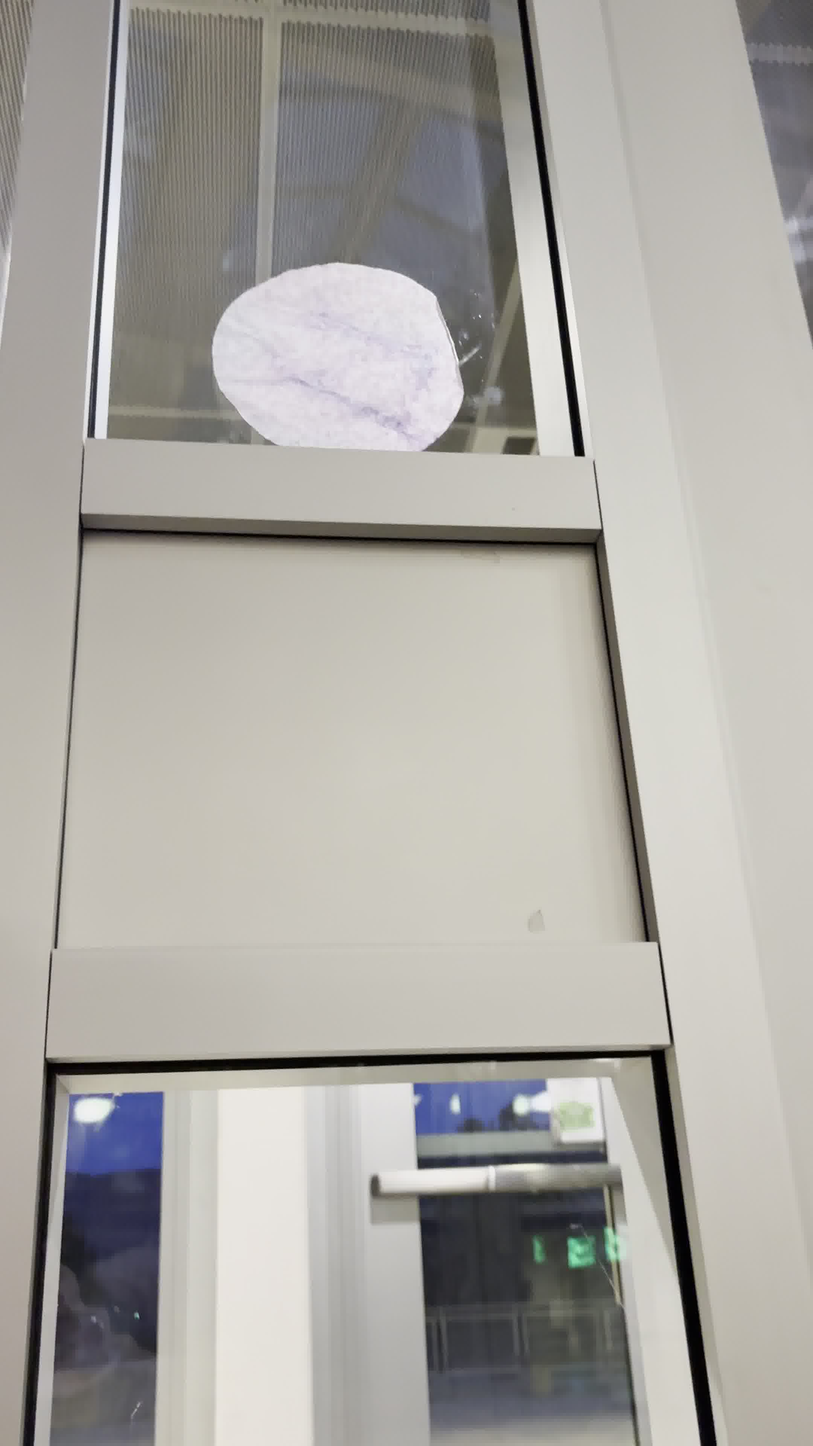Target: (204, 257, 469, 457)
